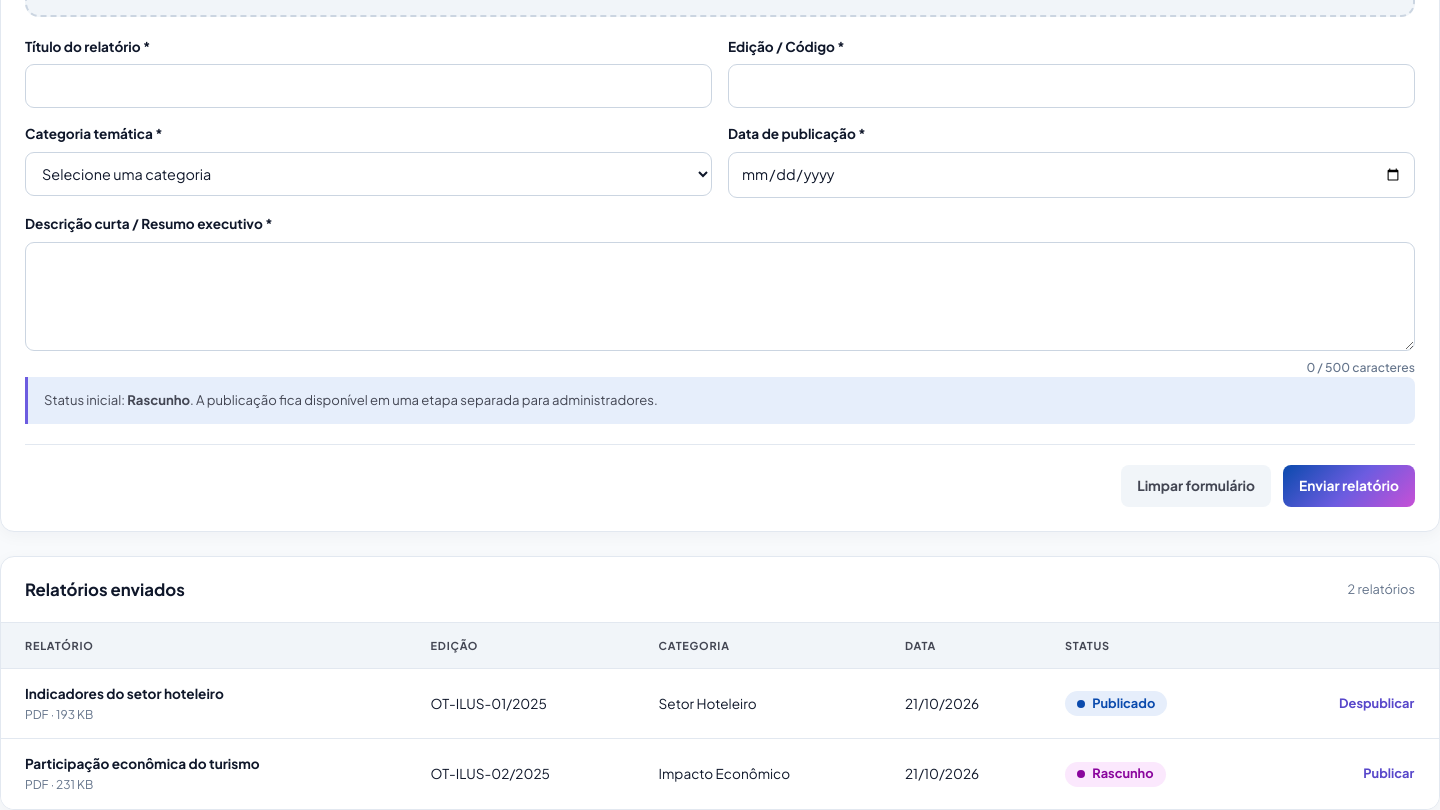
AdminRelatoriosPage › publicação › publica depois de confirmar e atualiza a linha sem recarregar
(page scrolled)
Click the button "Publicar": {"x": 1389, "y": 774} [1354,759,1423,789]
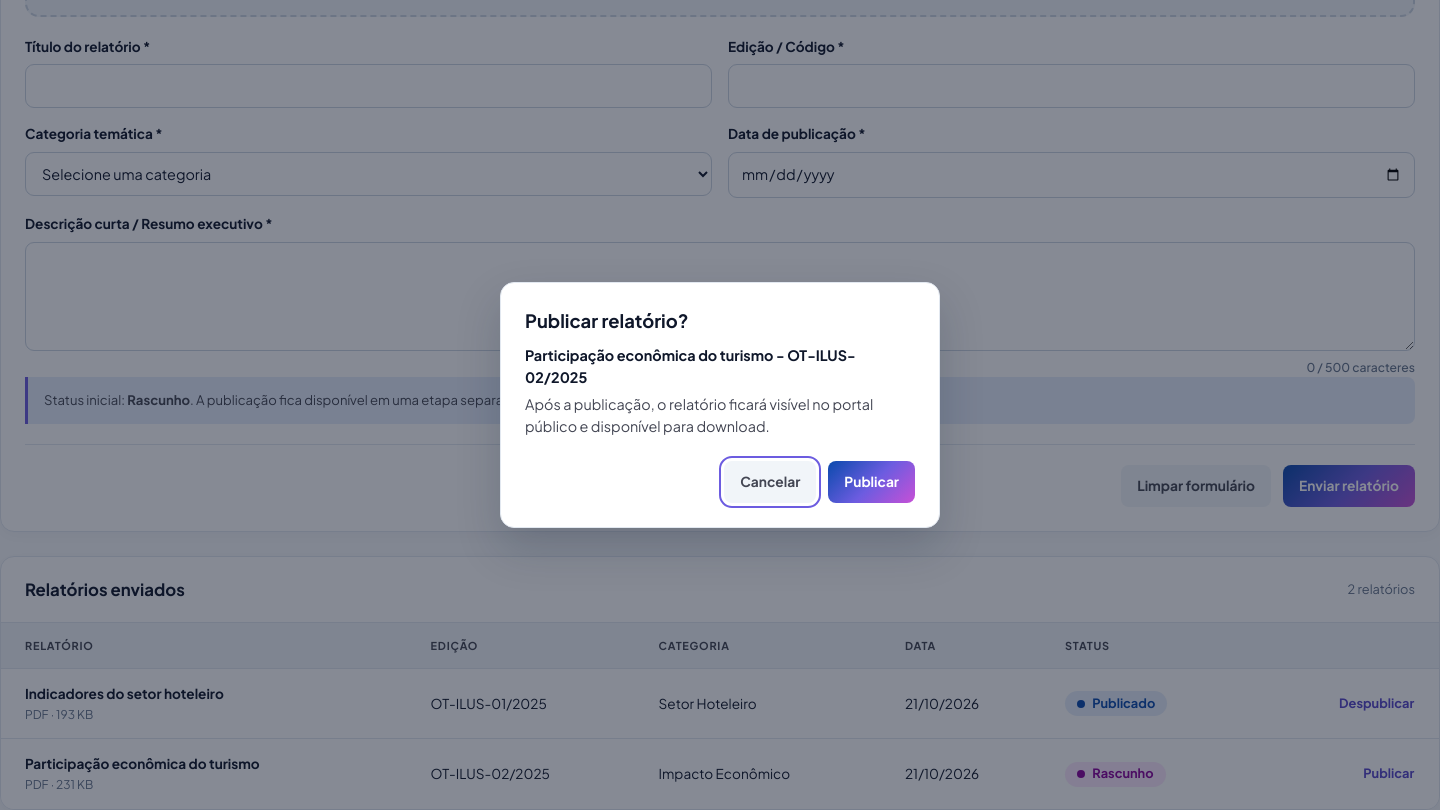
Click the button "Publicar": {"x": 872, "y": 482} [828,461,915,503]
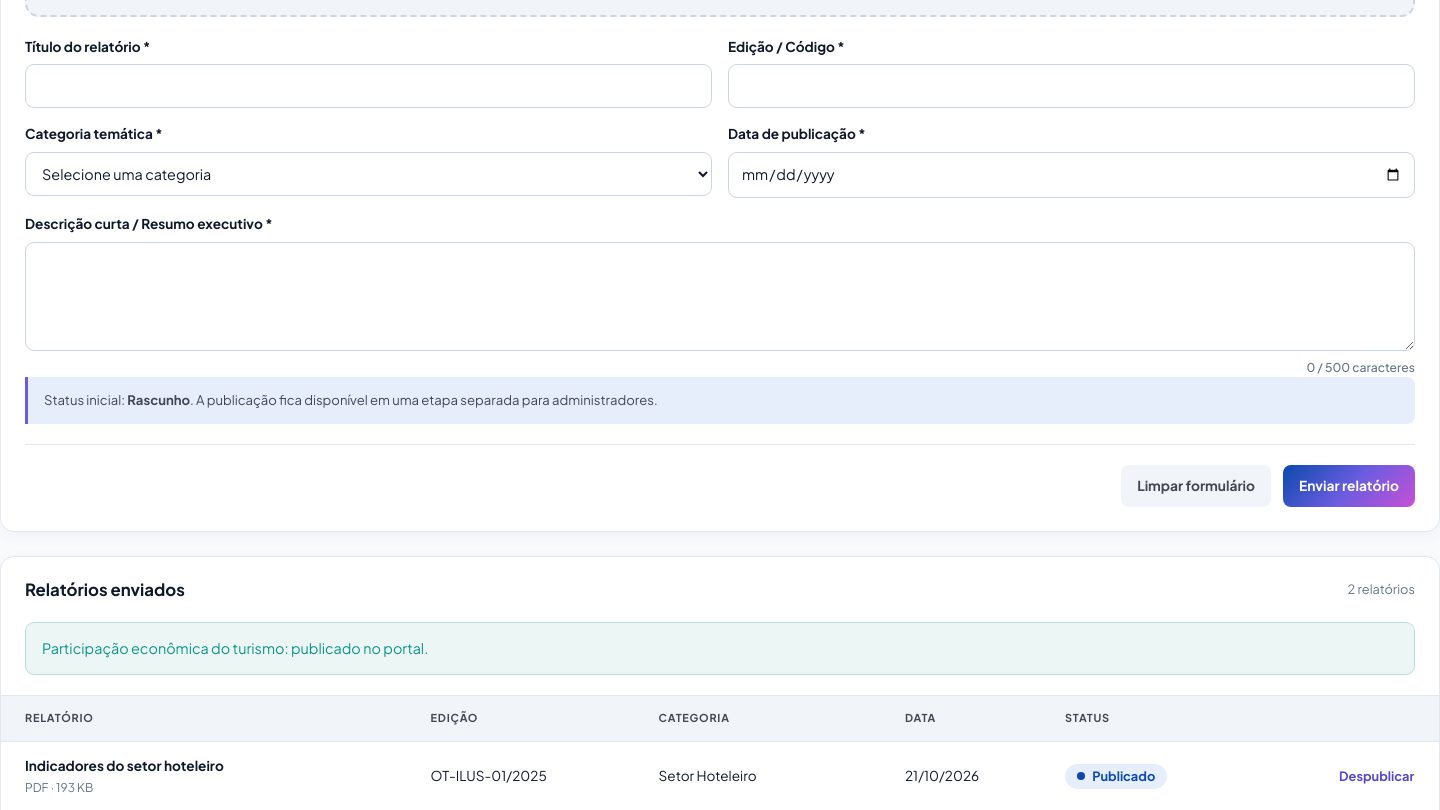
Check: the dialog is gone
